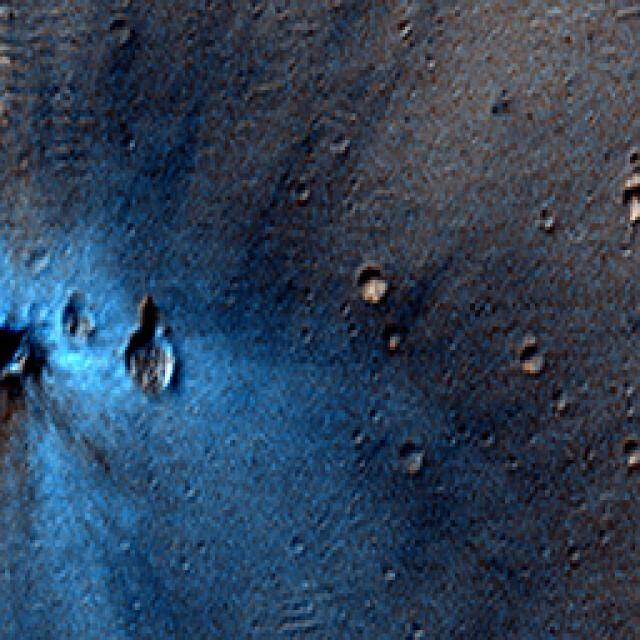Crater: (0, 286, 115, 516), (110, 277, 192, 423)
